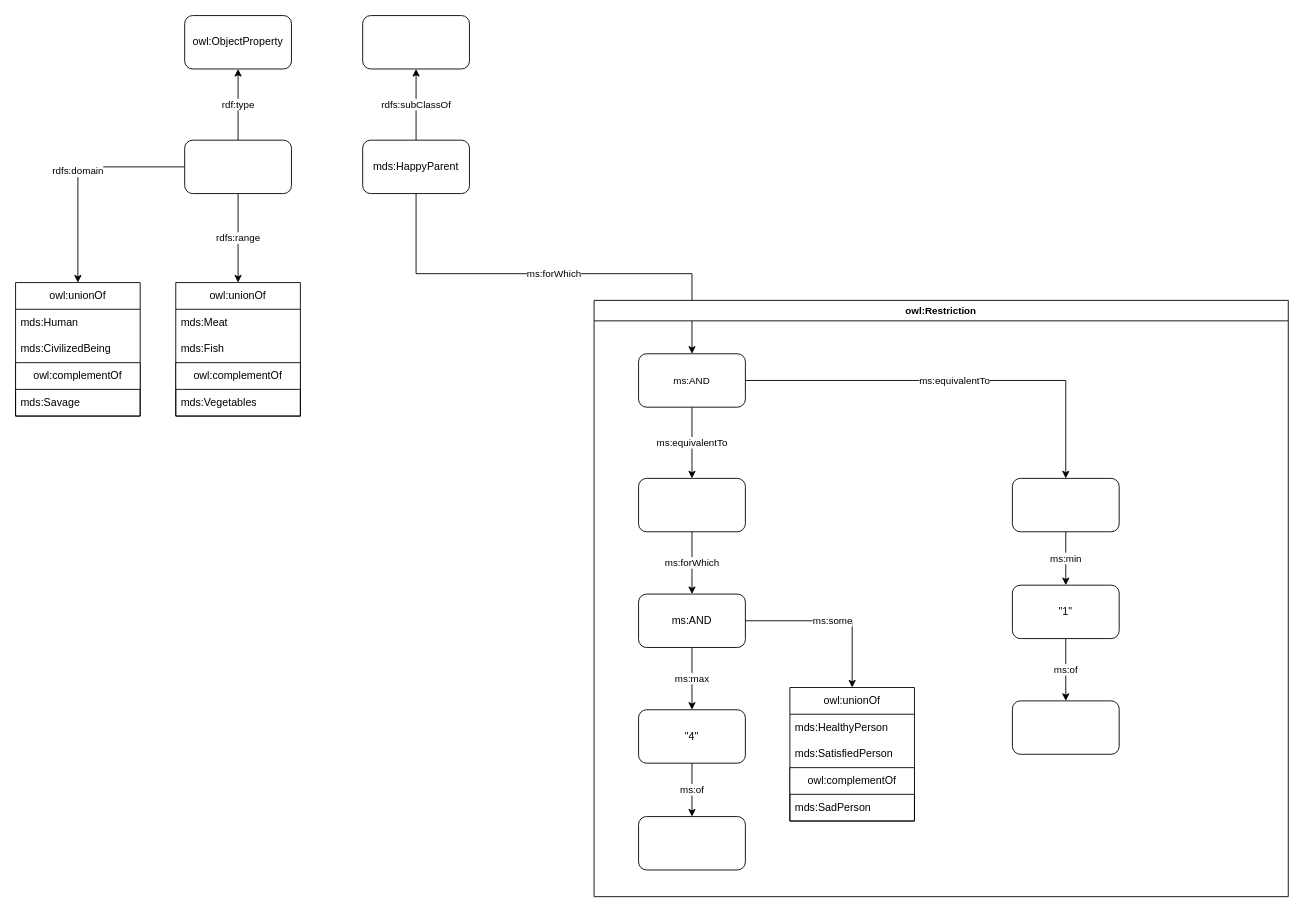
This 1304x912 diagram has some shape labels left out. Here are the shapes that lost their labels. From the top down, the centre of each, then its label:
the point at 415,42: cco:Person
the point at 237,166: mds:eats
the point at 691,504: mds:hasChild
the point at 1065,504: mds:hasWife
the point at 1065,727: mds:JoyfulWoman
the point at 691,843: mds:HappyPerson
